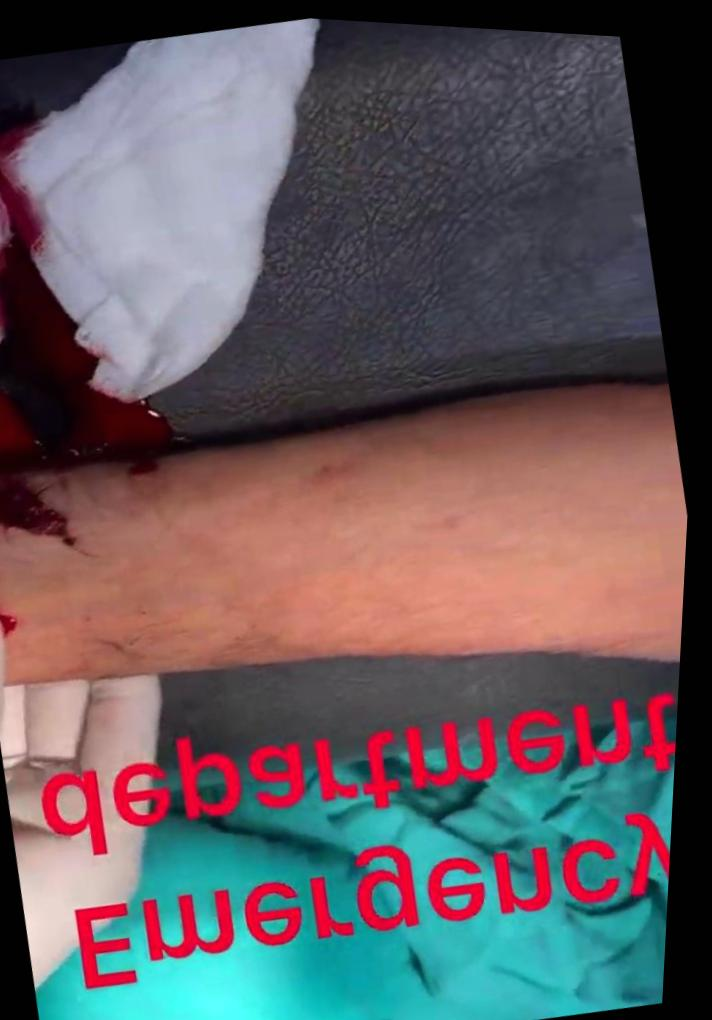Fire: (0, 39, 176, 575)
